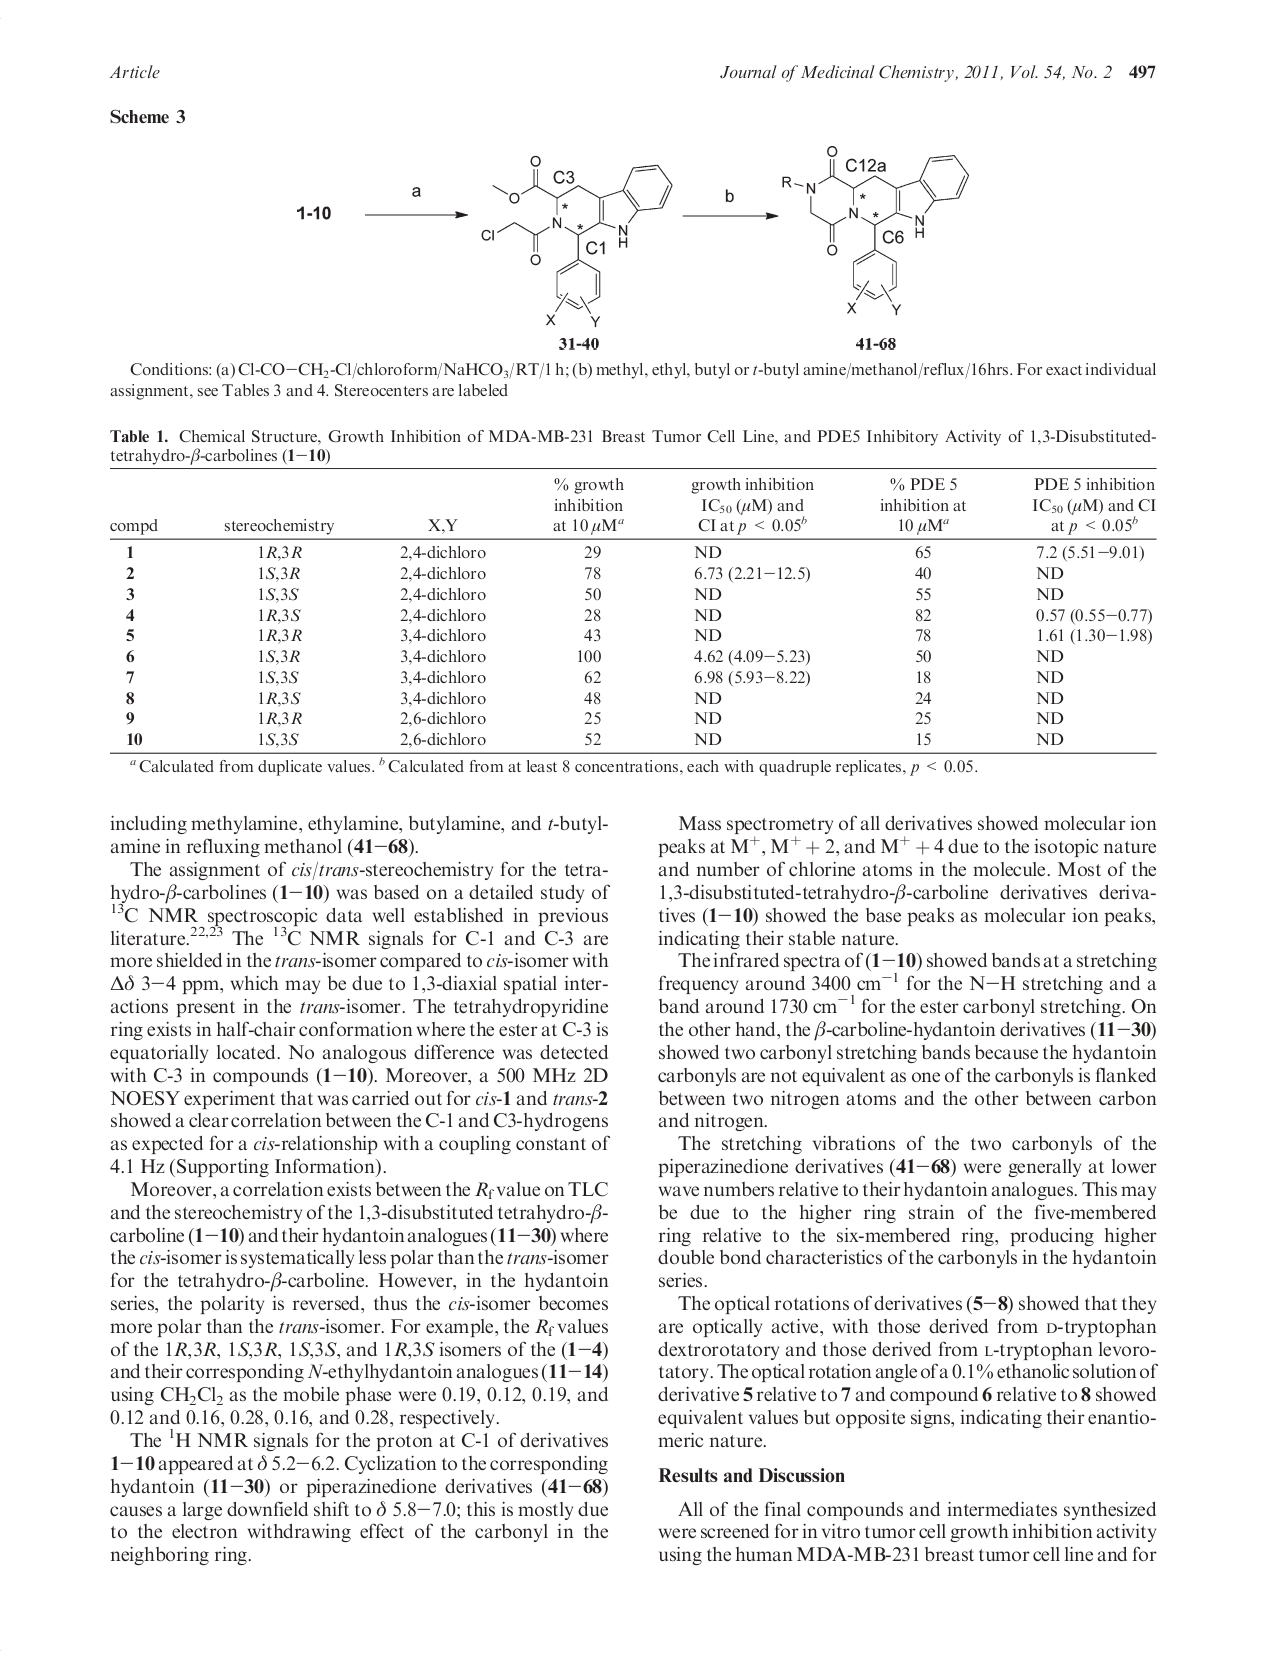exist_molecular: (479, 153, 676, 331), (779, 142, 971, 317)
